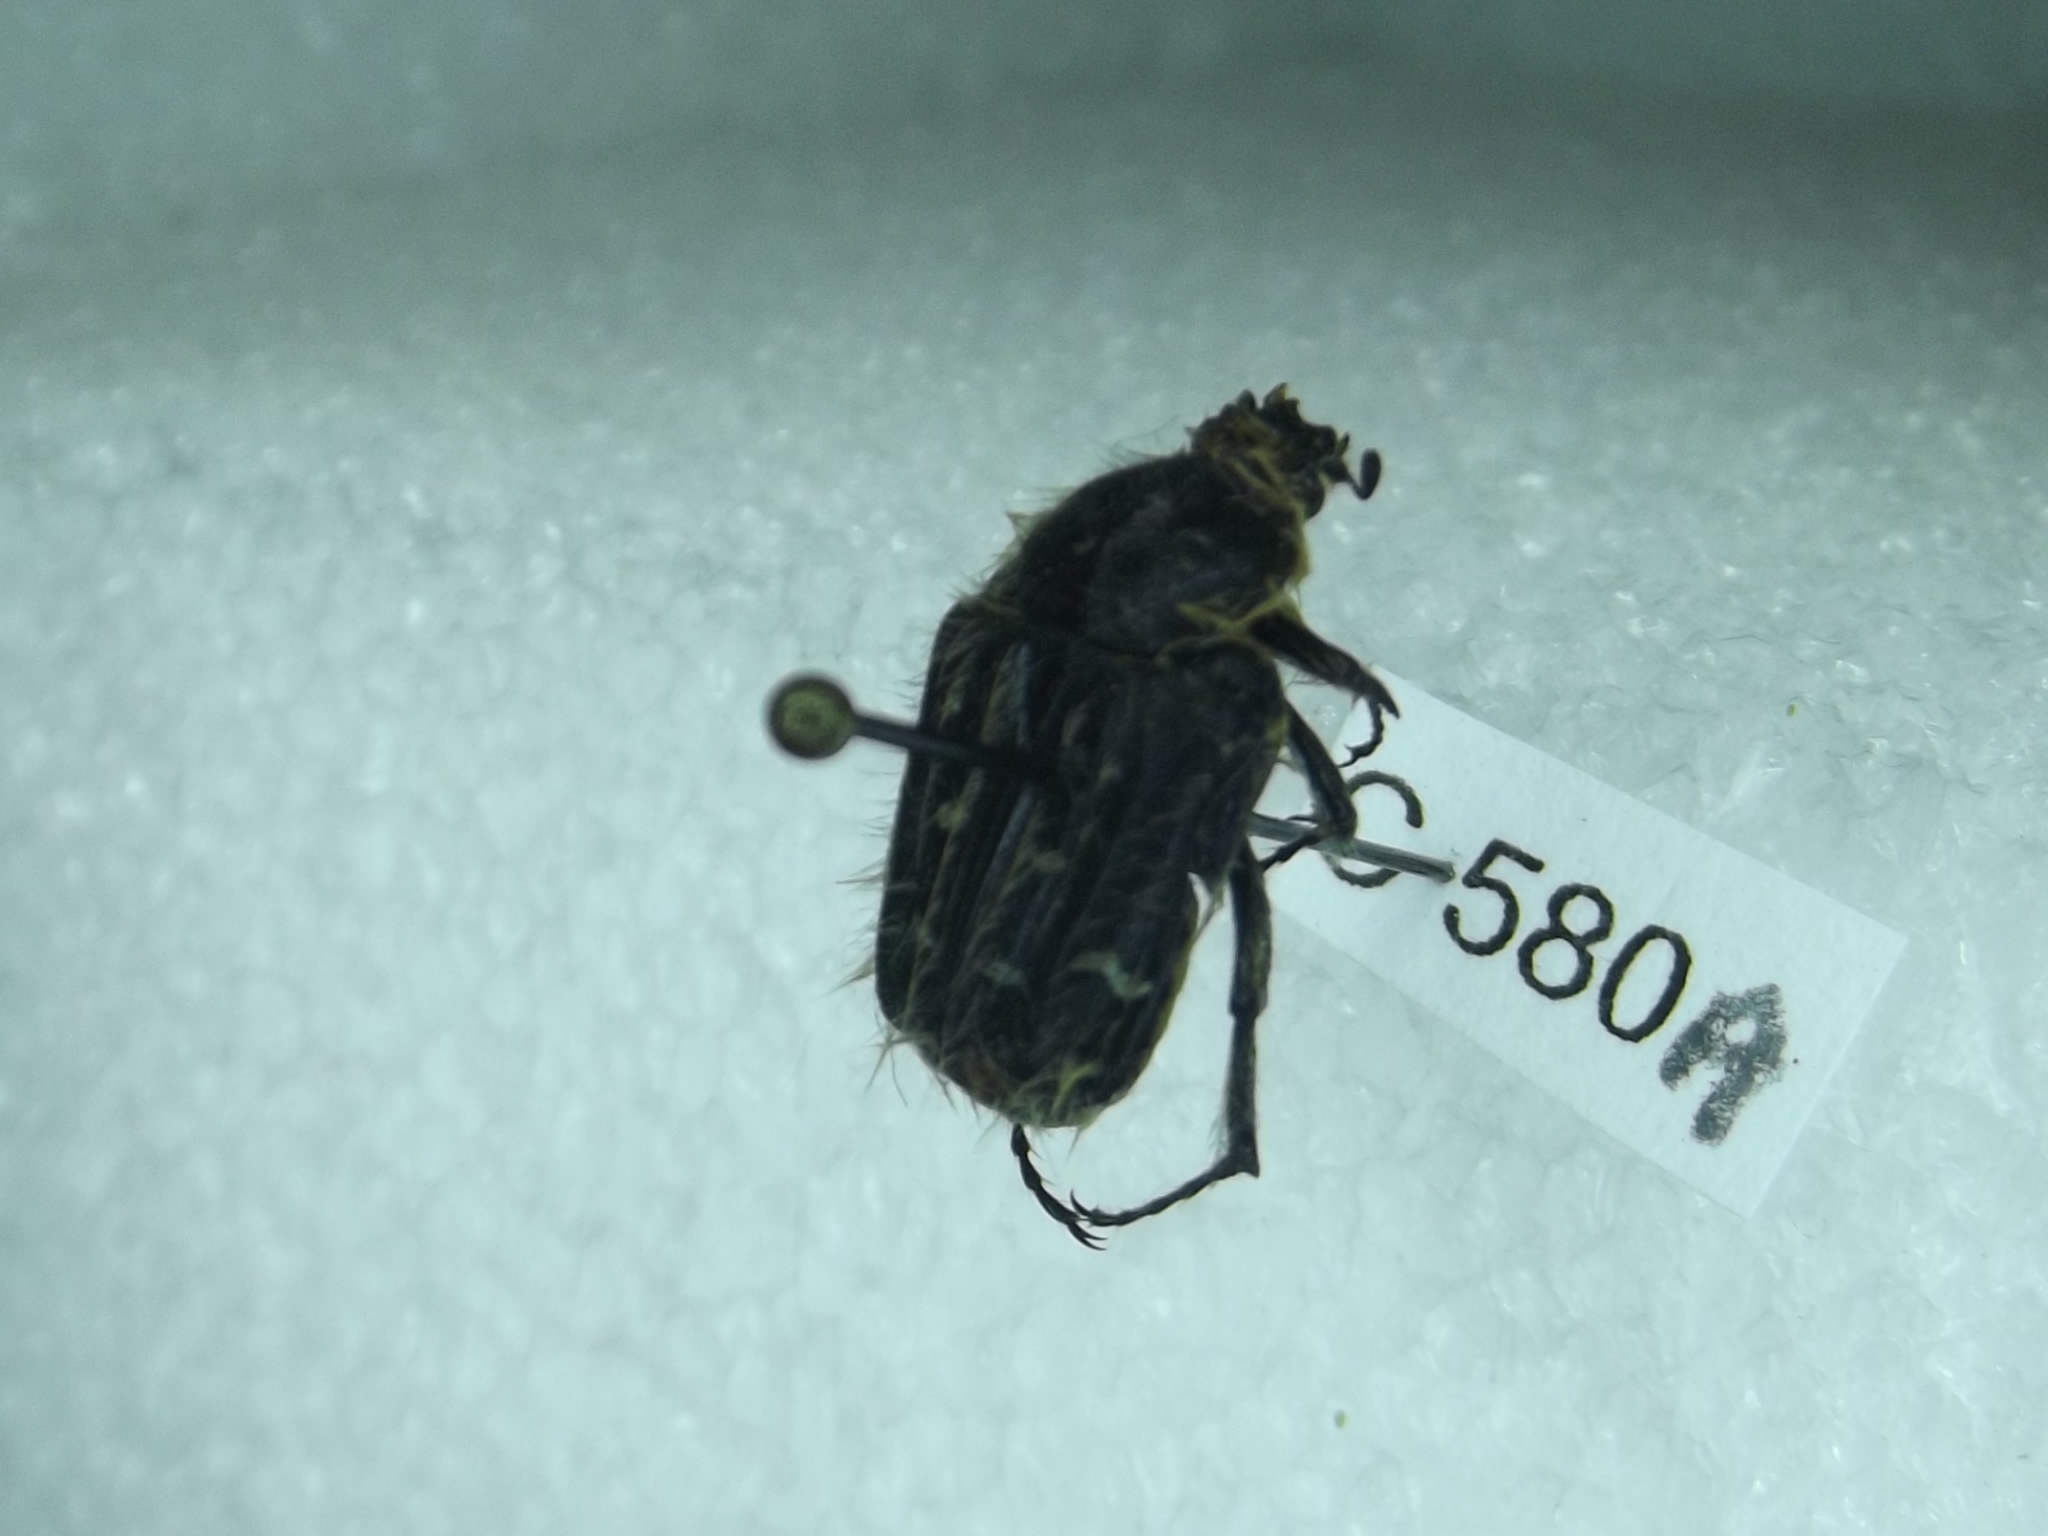Tropinota_hirta: (732, 373, 1438, 1254)
